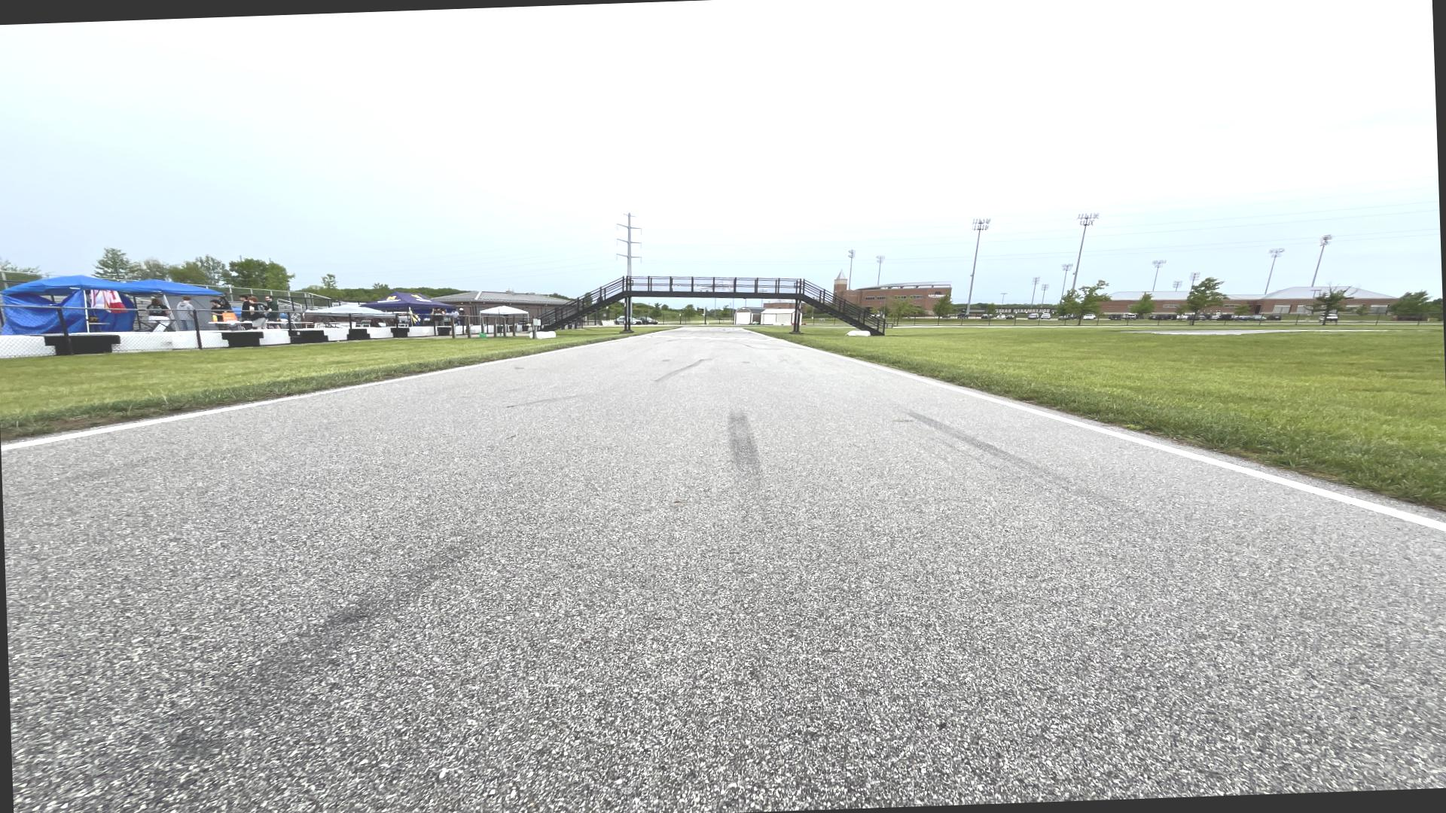white-line: (781, 340, 1445, 533), (1, 336, 631, 452)
